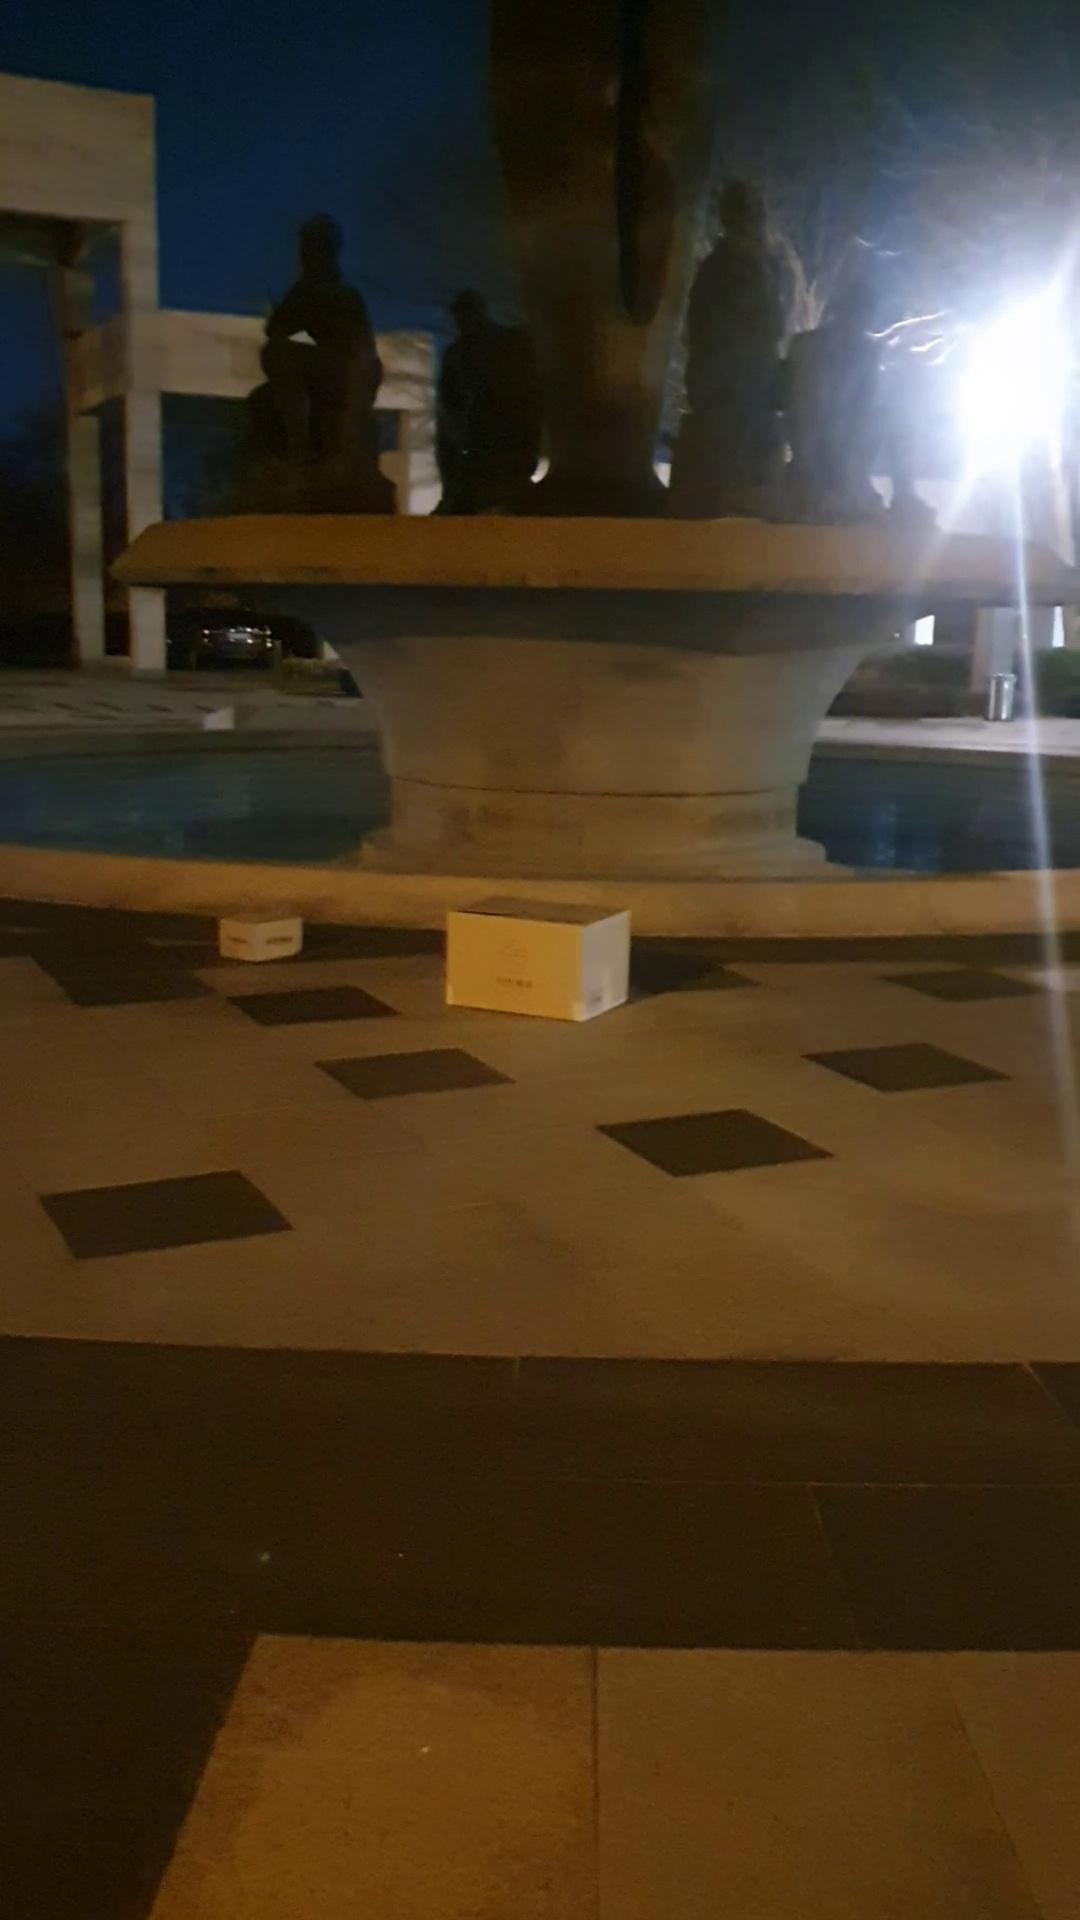Box: (431, 893, 638, 1030), (214, 899, 305, 972)
